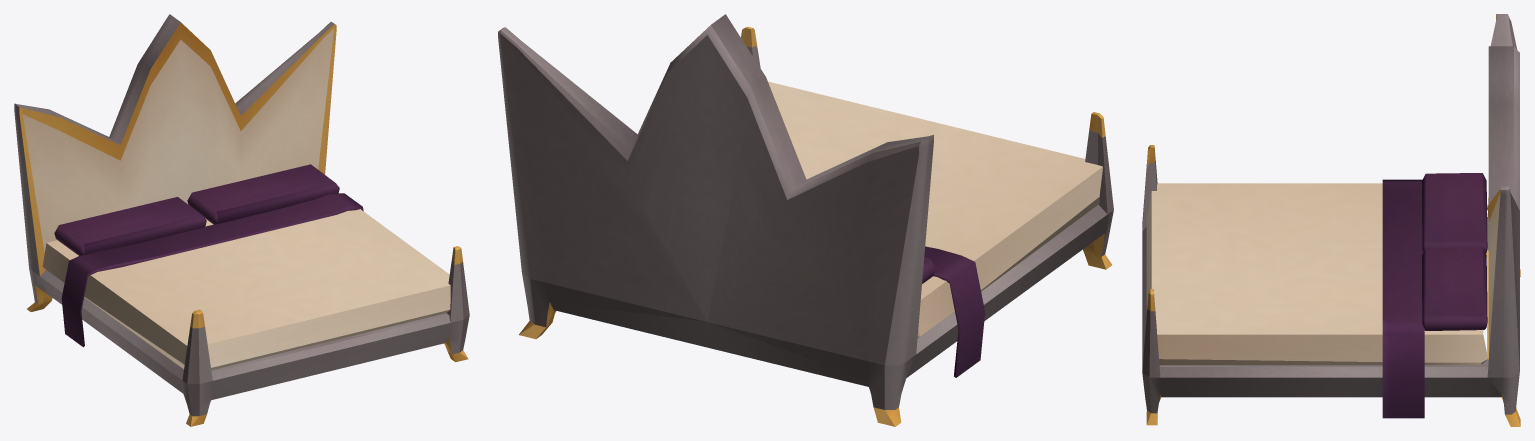
The model's file is SM_king_bed_00.fbx.
3 renders of one model, left to right at view 1: azimuth 30°, elevation 25°; view 2: azimuth 150°, elevation 25°; view 3: azimuth 270°, elevation 25°, orthographic. The views are drawn at different scales.
Parts seen in each view (by area): view 1: SM_king_bed_00; view 2: SM_king_bed_00; view 3: SM_king_bed_00.
Boxes of the visible parts, x1=… form: SM_king_bed_00: x1=14, y1=14, x2=469, y2=426; SM_king_bed_00: x1=498, y1=14, x2=1113, y2=426; SM_king_bed_00: x1=1142, y1=14, x2=1520, y2=426.
Size of the model in its own units: 3.87 by 3.05 by 3.46.
